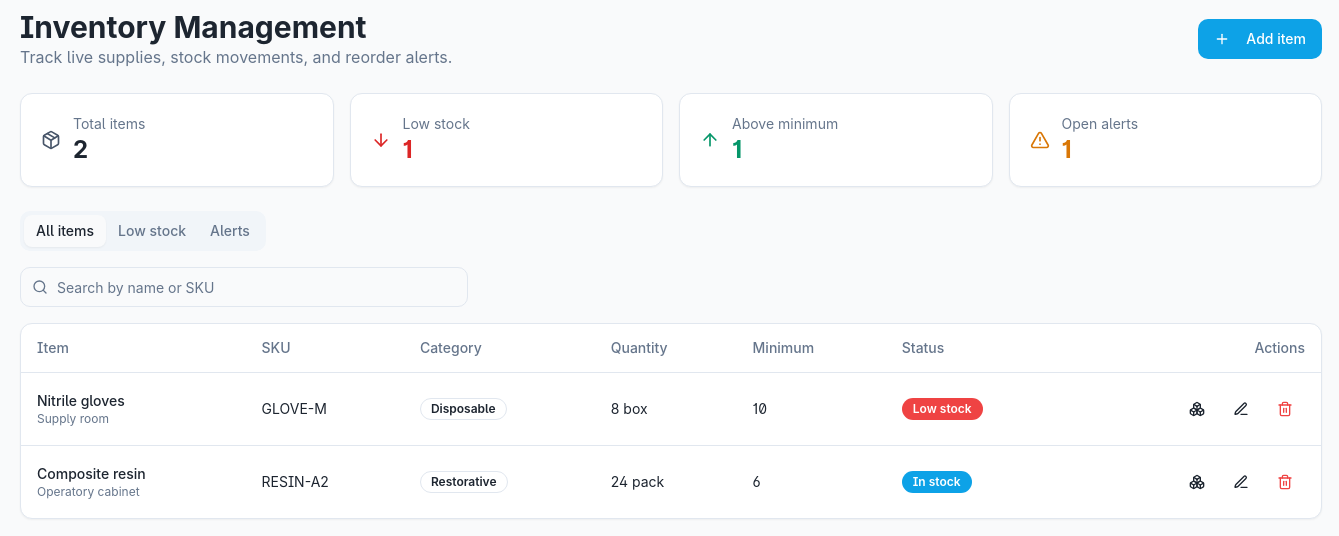
Scenario: Inventory Page › uses the live search, low-stock, and alert views
Type "gloves" into the field with placeholder "Search by name or SKU" at (244, 287), box [20, 267, 468, 307]
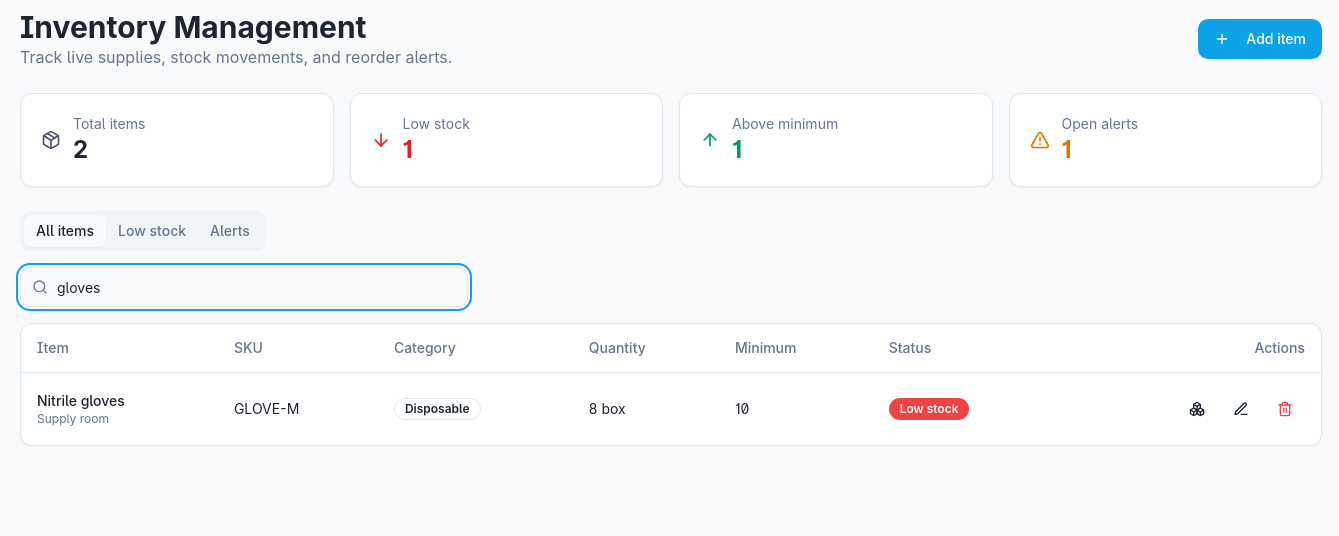
Expected: the text "Nitrile gloves" is shown, [37, 392, 125, 408]
Now the text "Composite resin" is gone
Click the tab "Low stock" at (152, 231), box [106, 215, 198, 247]
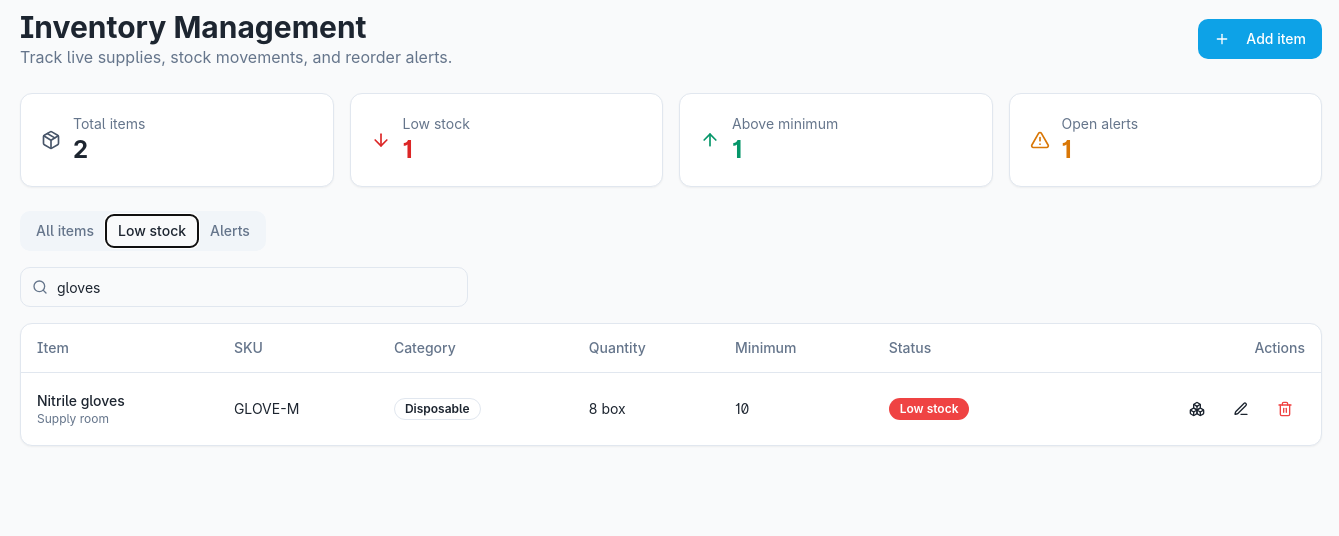
Expected: the text "Nitrile gloves" is shown, [37, 392, 125, 408]
Click the tab "Alerts" at (230, 231), box [198, 215, 262, 247]
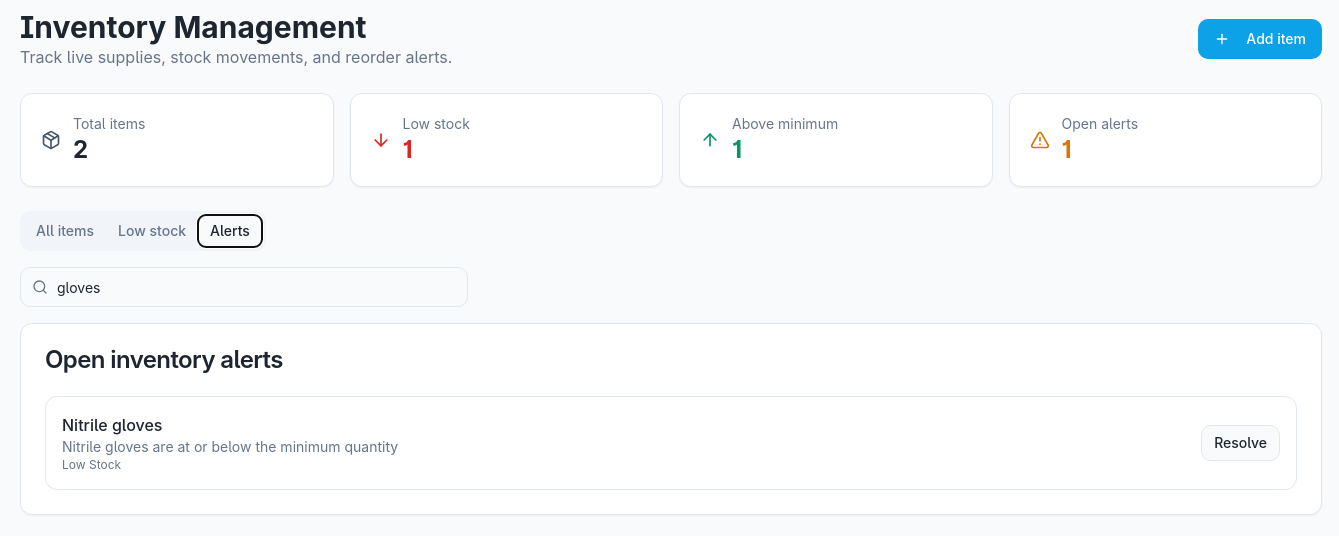
Now the text "Nitrile gloves are at or below the minimum quantity" is shown, box [62, 437, 398, 457]
Now the button "Resolve" is shown, box [1201, 425, 1280, 461]
